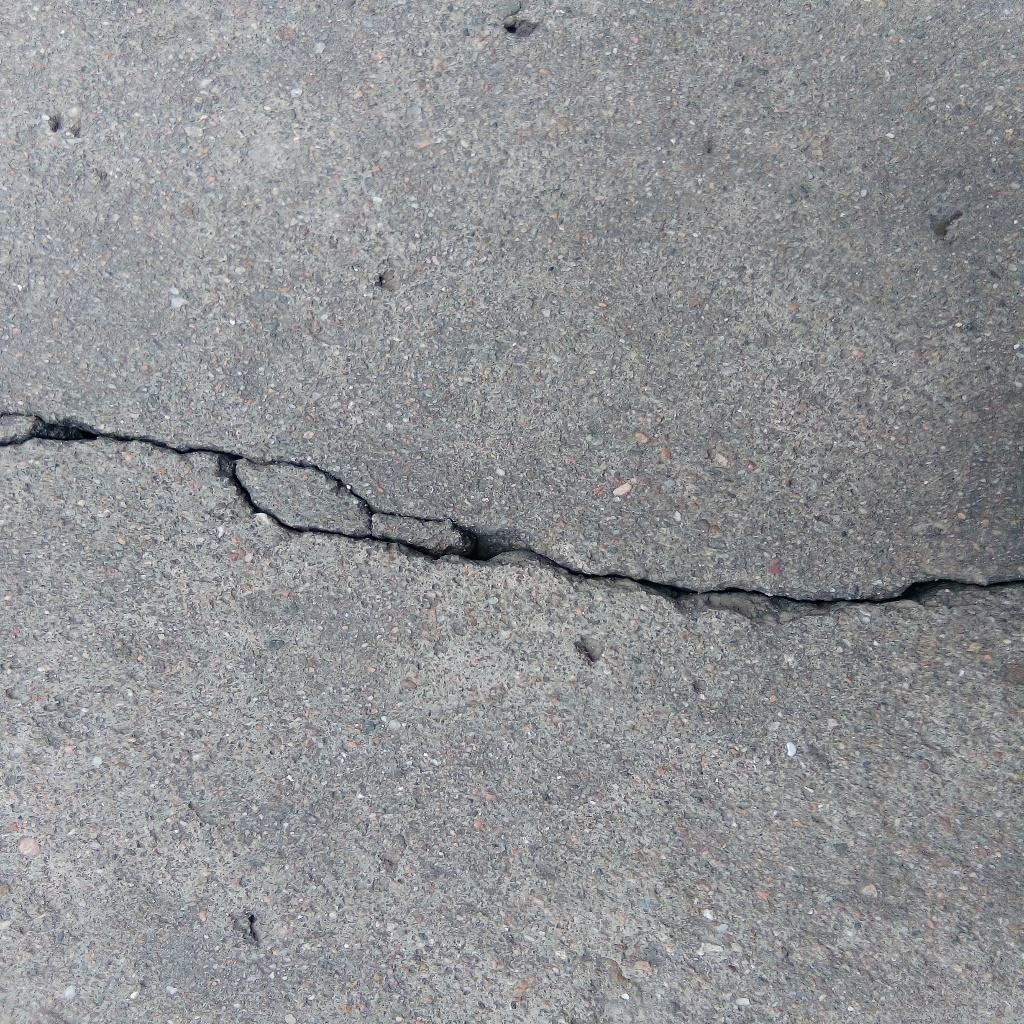Crack: (1, 409, 1024, 624)
